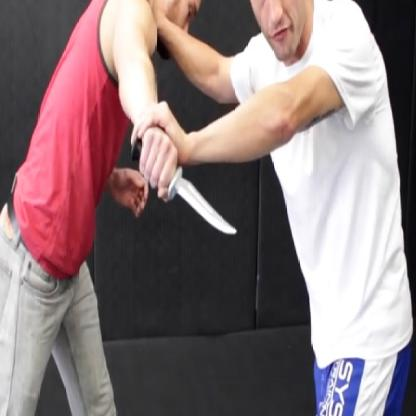knife: (124, 120, 243, 247)
